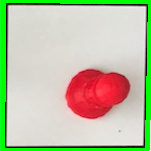Red Pawn: (62, 63, 133, 122)
